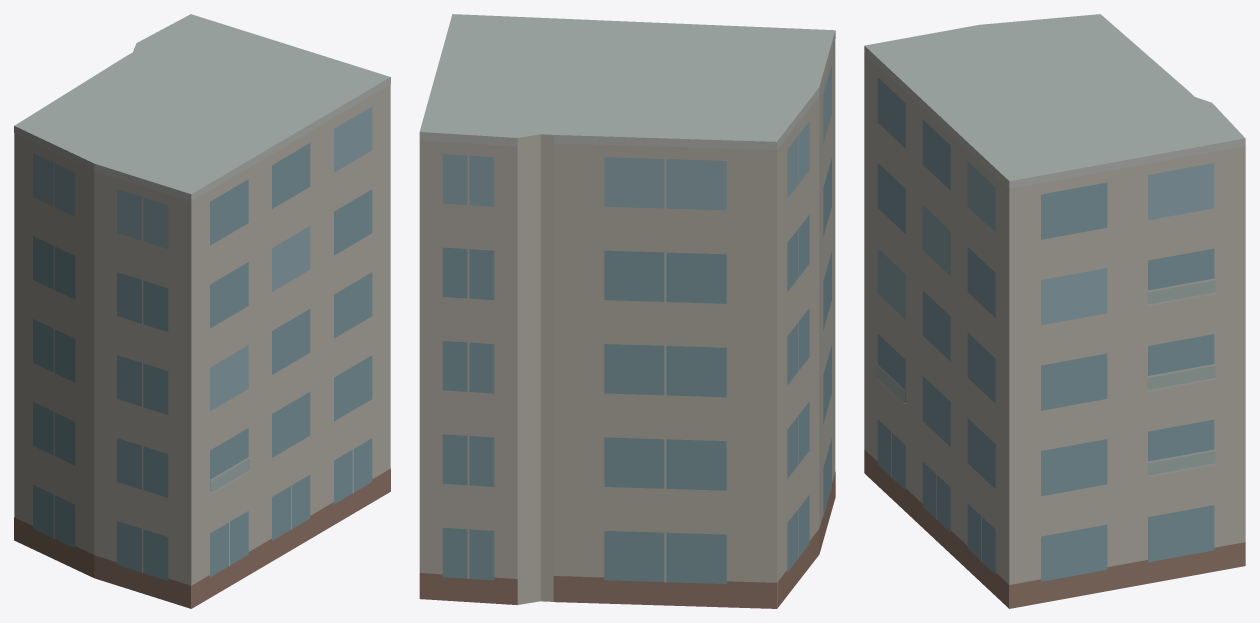
Rendered from survey-upis-32635053.glb.
3 views of the same model, side by side, from view 1: azimuth 30°, elevation 25°; view 2: azimuth 150°, elevation 25°; view 3: azimuth 270°, elevation 25° (orthographic). The views are drawn at different scales.
Visible parts, largest first — view 1: survey-upis-32635053.tmp; view 2: survey-upis-32635053.tmp; view 3: survey-upis-32635053.tmp.
Part boxes in pixels (x1,y1,x2,y2): survey-upis-32635053.tmp: (14,14,390,608); survey-upis-32635053.tmp: (419,14,835,608); survey-upis-32635053.tmp: (864,14,1245,608).
Size of the model in its own units: 11.57 by 13.78 by 11.14.
